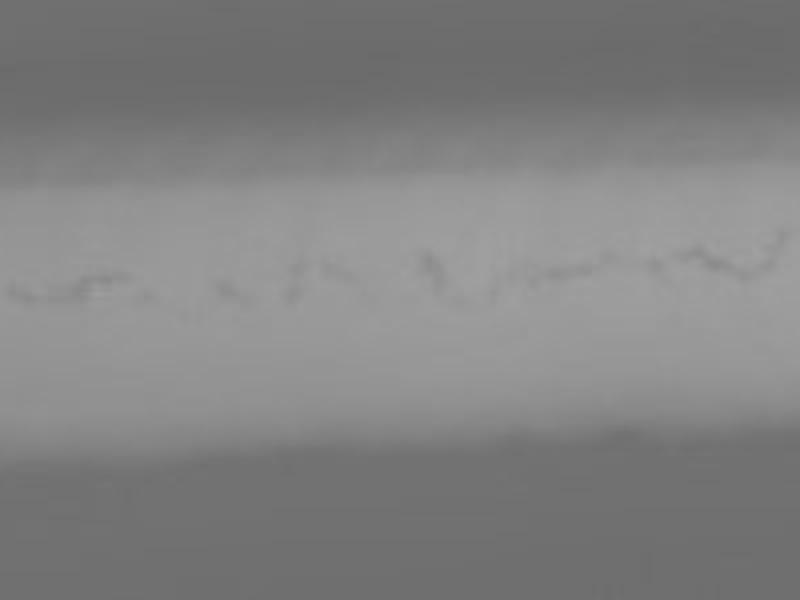defect: (280, 249, 311, 277), (643, 253, 673, 279), (67, 276, 94, 304), (211, 277, 241, 300), (499, 262, 527, 286), (771, 225, 800, 248), (415, 244, 439, 271), (678, 241, 712, 259), (431, 268, 450, 298), (571, 258, 595, 281), (734, 262, 757, 286), (543, 262, 569, 283), (698, 256, 732, 272), (597, 245, 618, 266), (759, 253, 779, 275), (111, 270, 137, 283), (19, 287, 39, 303), (289, 285, 306, 303), (525, 275, 542, 293), (136, 290, 158, 303), (97, 275, 111, 286)
